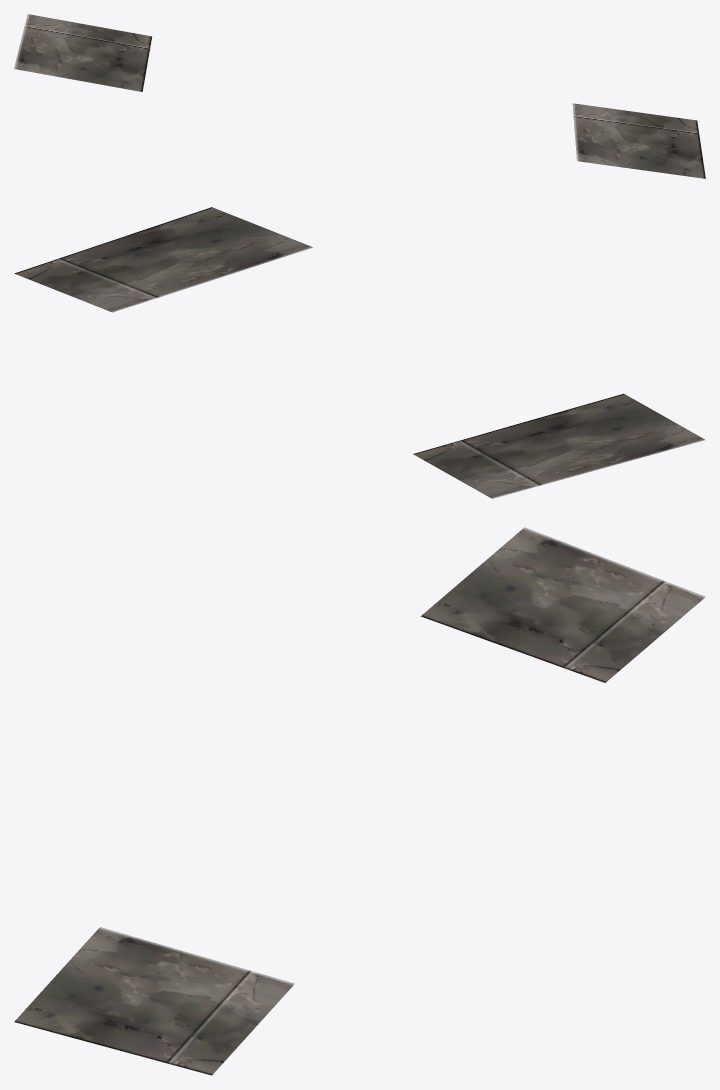
The model's file is CH09_SMAUG_PLAYSURFACE_LAIR138.fbx.
3 views of the same model, one above another, from view 1: azimuth 30°, elevation 25°; view 2: azimuth 150°, elevation 25°; view 3: azimuth 270°, elevation 25° (orthographic). The views are drawn at different scales.
Visible parts, largest first — view 1: CH09_SMAUG_PLAYSURFACE_LAIR138; view 2: CH09_SMAUG_PLAYSURFACE_LAIR138; view 3: CH09_SMAUG_PLAYSURFACE_LAIR138.
Boxes of the visible parts, x1,y1,x2,y2 form: CH09_SMAUG_PLAYSURFACE_LAIR138: (14, 14, 705, 178); CH09_SMAUG_PLAYSURFACE_LAIR138: (14, 207, 705, 498); CH09_SMAUG_PLAYSURFACE_LAIR138: (14, 527, 705, 1075).
Bounding box in the file's own units: 55791 × 10238 × 41460.
Materials: 1 (1 with a texture image).
